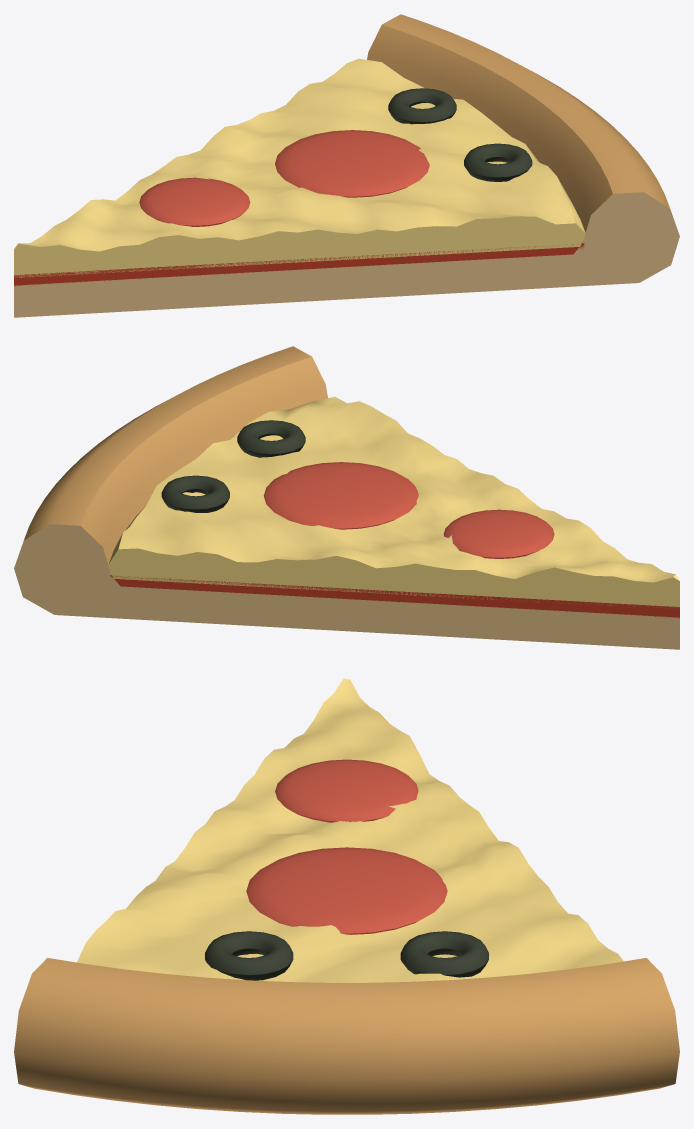
The picture shows the model from 3 angles, top to bottom: view 1: azimuth 30°, elevation 25°; view 2: azimuth 150°, elevation 25°; view 3: azimuth 270°, elevation 25°; orthographic projection. The views are drawn at different scales.
Visible parts, largest first — view 1: Part_01; view 2: Part_01; view 3: Part_01.
Boxes of the visible parts, left/top/right/bottom form: Part_01: left=14, top=14, right=679, bottom=317; Part_01: left=14, top=346, right=679, bottom=649; Part_01: left=14, top=678, right=679, bottom=1114.
Size of the model in its own units: 0.1511 by 0.0225 by 0.1157.
